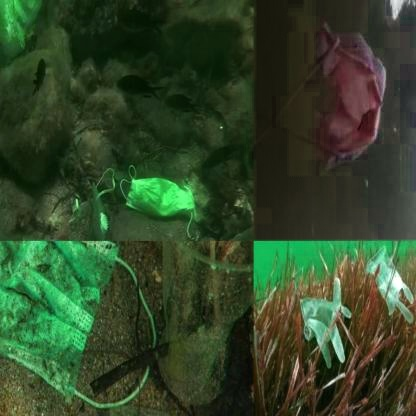Mask: (254, 5, 392, 216), (0, 241, 162, 409), (120, 162, 202, 240)
glove: (298, 275, 352, 368), (362, 247, 414, 328)
